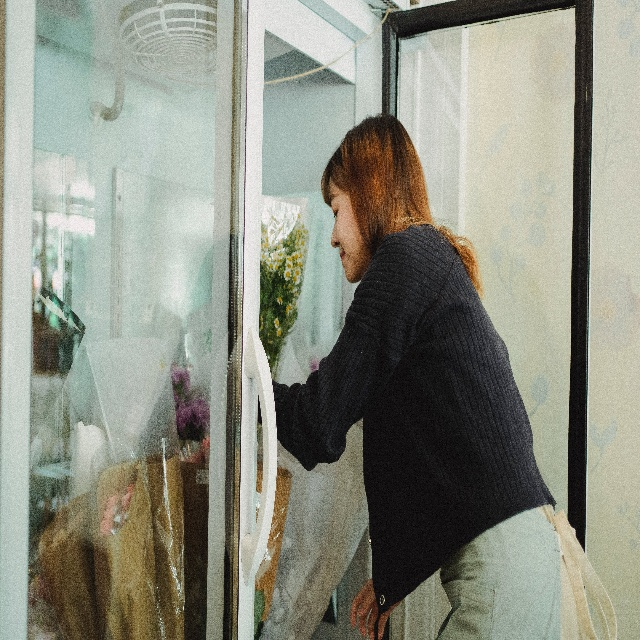Sin_guantes: (351, 576, 404, 640)
